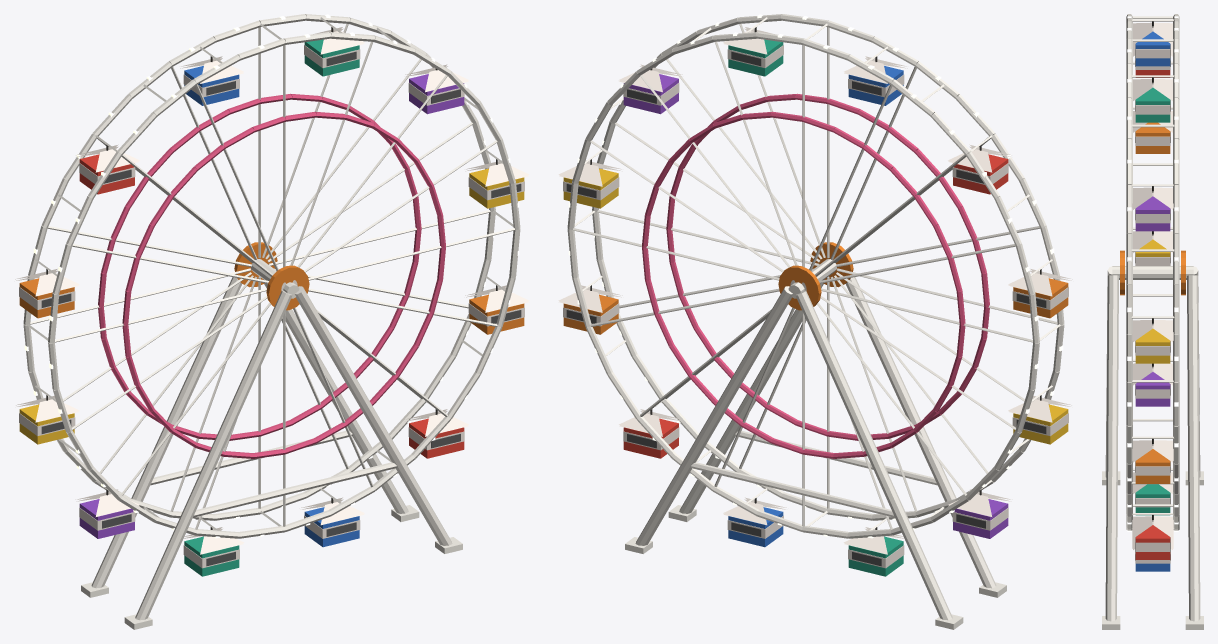
File: ferris-wheel.glb
The picture shows the model from 3 angles, left to right: view 1: azimuth 30°, elevation 25°; view 2: azimuth 150°, elevation 25°; view 3: azimuth 270°, elevation 25°; orthographic projection. The views are drawn at different scales.
Parts seen in each view (by area): view 1: ferris-wheel; view 2: ferris-wheel; view 3: ferris-wheel.
Part boxes in pixels (x1,y1,x2,y2): ferris-wheel: (15, 14, 529, 629); ferris-wheel: (558, 14, 1072, 629); ferris-wheel: (1102, 14, 1203, 629).
Bounding box in the file's own units: 26.74 × 28.07 × 5.
